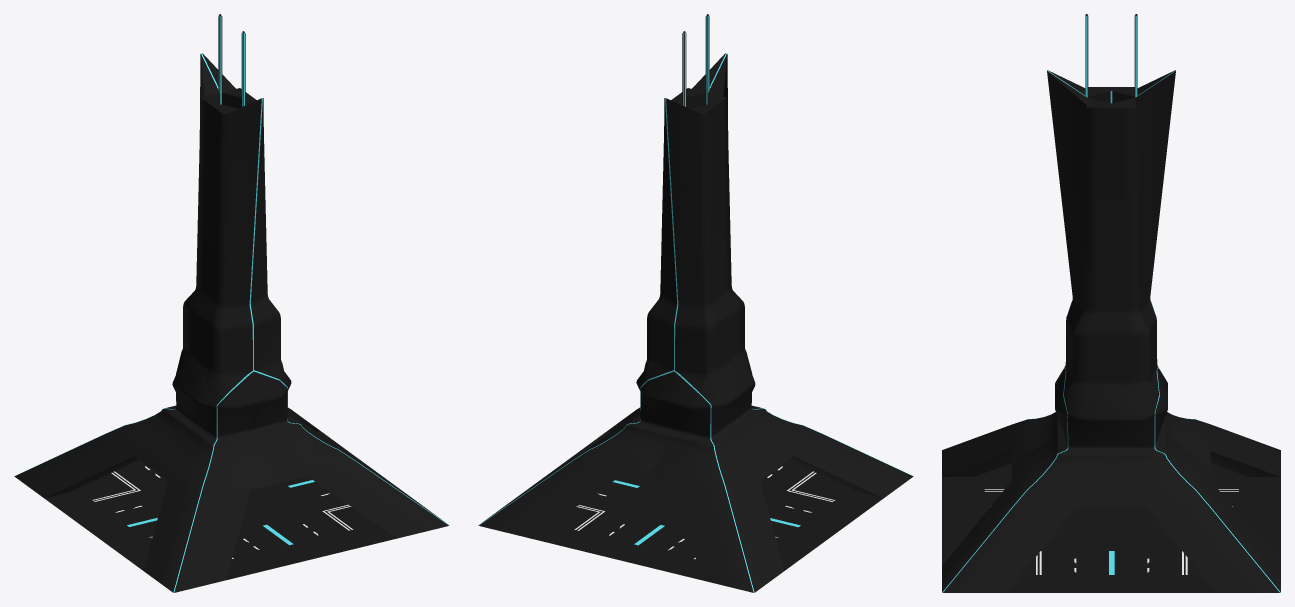
The model's file is central tower.FBX.
The picture shows the model from 3 angles, left to right: view 1: azimuth 30°, elevation 25°; view 2: azimuth 150°, elevation 25°; view 3: azimuth 270°, elevation 25°; orthographic projection. The views are drawn at different scales.
Visible parts, largest first — view 1: tower; view 2: tower; view 3: tower.
Boxes of the visible parts, x1,y1,x2,y2 form: tower: [14, 14, 449, 592]; tower: [478, 14, 913, 592]; tower: [942, 14, 1280, 592].
Bounding box in the file's own units: 30.79 × 51.18 × 30.81.
